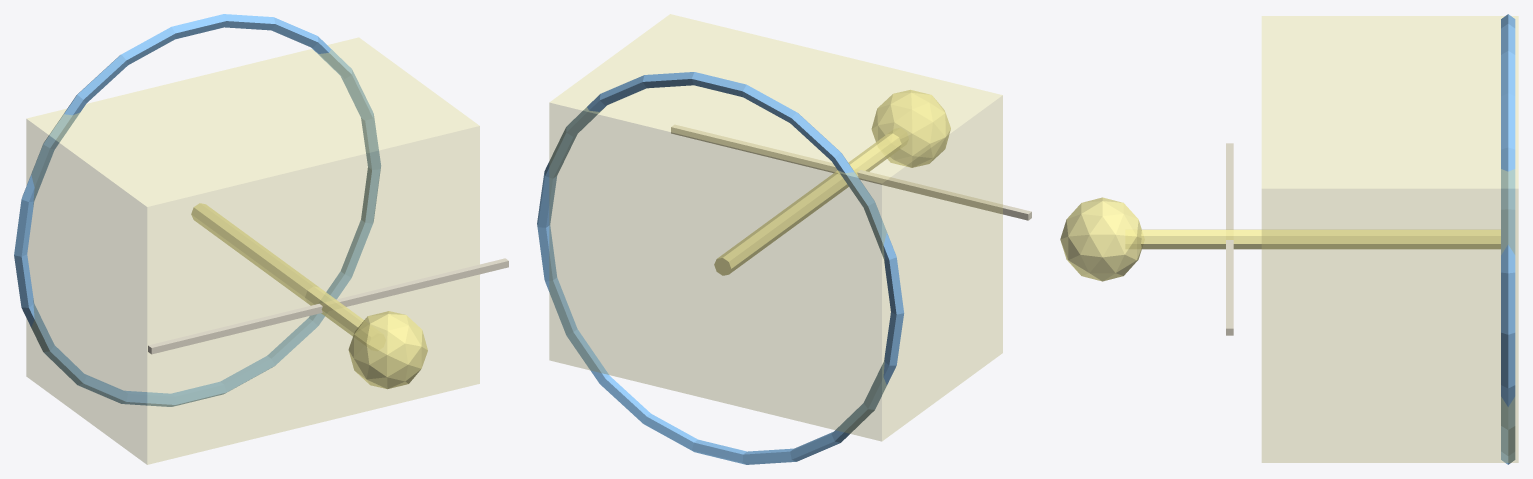
File: 05_dynamic_camera_trigger.glb
3 views of the same model, side by side, from view 1: azimuth 30°, elevation 25°; view 2: azimuth 150°, elevation 25°; view 3: azimuth 270°, elevation 25° (orthographic). The views are drawn at different scales.
Visible parts, largest first — view 1: camera_trigger_volume, combat_start_ring, focus_target, focus_target_pole, camera_axis; view 2: camera_trigger_volume, combat_start_ring, focus_target, focus_target_pole, camera_axis; view 3: camera_trigger_volume, focus_target_pole, combat_start_ring, focus_target, camera_axis.
Part boxes in pixels (<box>): camera_trigger_volume: <box>26,37,479,464</box>; combat_start_ring: <box>14,14,380,406</box>; focus_target: <box>348,311,427,389</box>; focus_target_pole: <box>191,203,364,336</box>; camera_axis: <box>148,258,508,354</box>; camera_trigger_volume: <box>549,14,1002,441</box>; combat_start_ring: <box>537,72,904,464</box>; focus_target: <box>871,90,950,167</box>; focus_target_pole: <box>714,133,901,275</box>; camera_axis: <box>671,124,1031,220</box>; camera_trigger_volume: <box>1262,16,1518,462</box>; focus_target_pole: <box>1141,229,1500,249</box>; combat_start_ring: <box>1501,14,1515,464</box>; focus_target: <box>1060,197,1141,281</box>; camera_axis: <box>1226,143,1233,335</box>.
Bounding box in the file's own units: 1.49 × 1.47 × 1.51.
